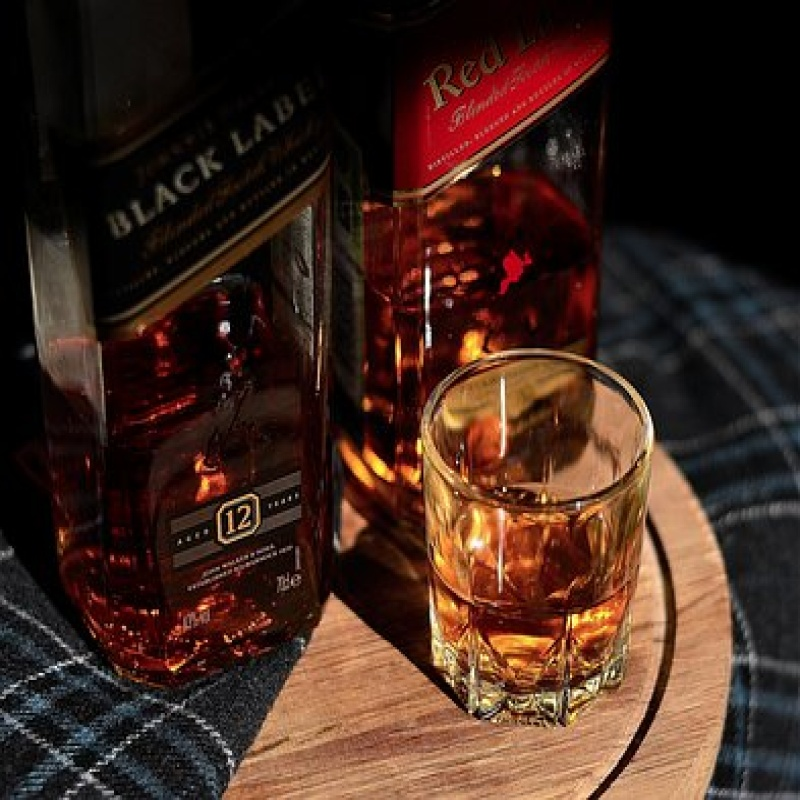whiskey: (416, 346, 659, 730)
